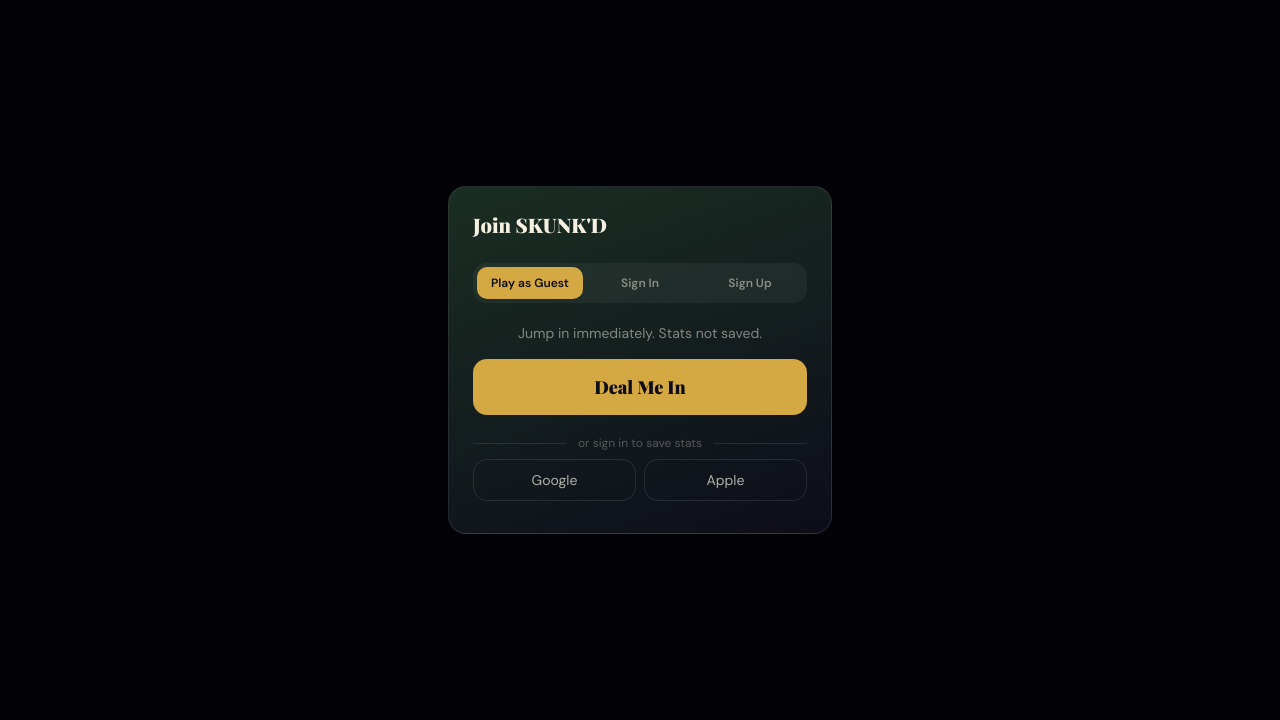
Test: AuthModal › shows email, password, and display name inputs on Sign Up tab
Click the button "Sign Up": x=750, y=283 [697, 267, 803, 299]
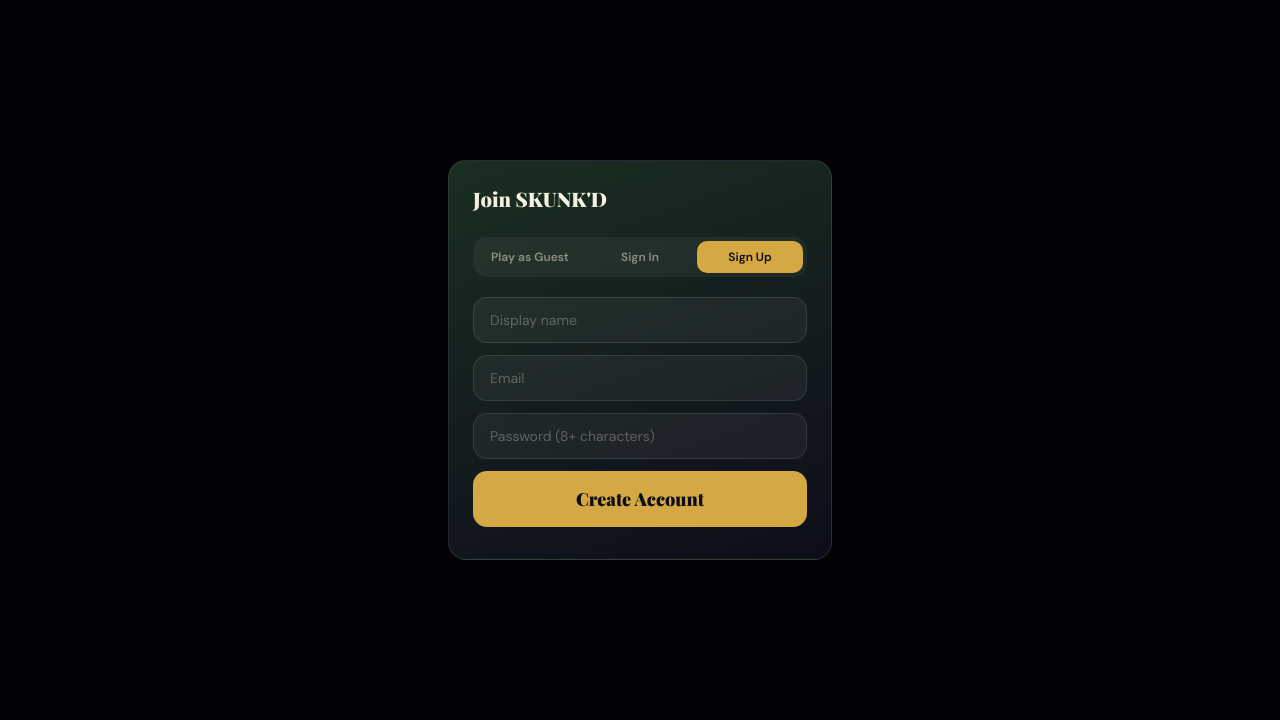
Now the field with test id "auth-name-input" is shown, box [473, 297, 807, 343]
Now the field with test id "auth-email-input" is shown, box [473, 355, 807, 401]
Now the password field with test id "auth-password-input" is shown, box [473, 413, 807, 459]
